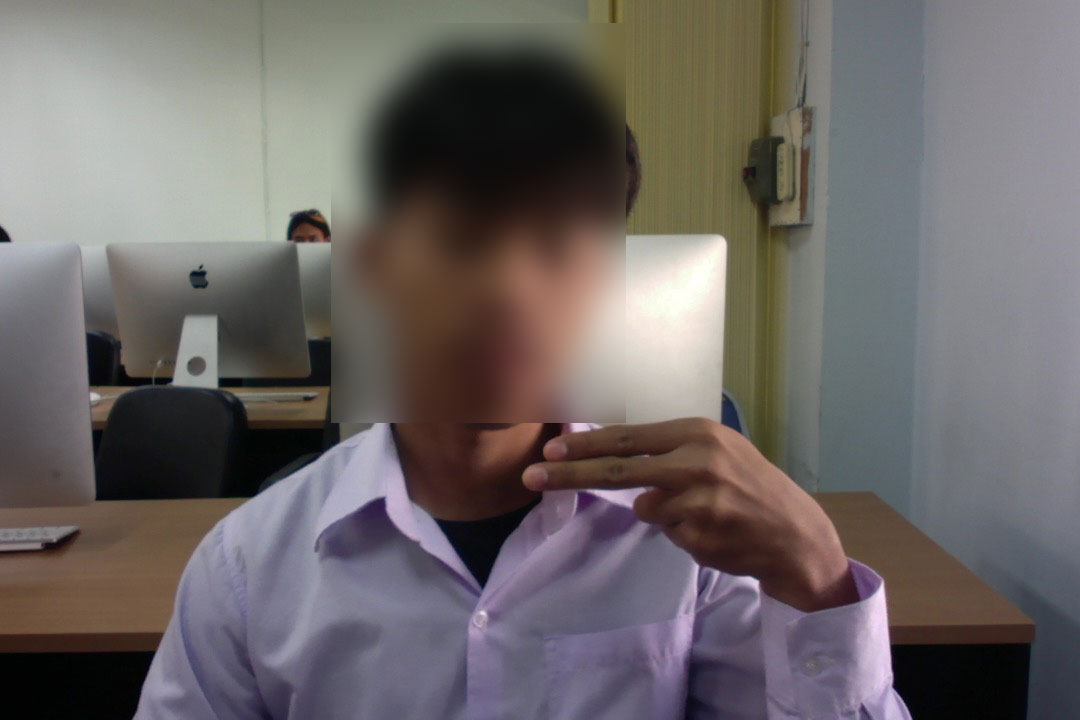hor: (510, 410, 853, 586)
